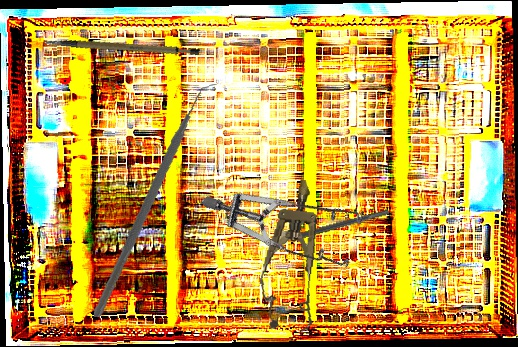Chopper: (67, 82, 250, 318)
Fixation Ring: (264, 202, 392, 256)
Scalpel Handle: (42, 15, 201, 76)
Speculum: (200, 125, 384, 311), (253, 175, 334, 335)
